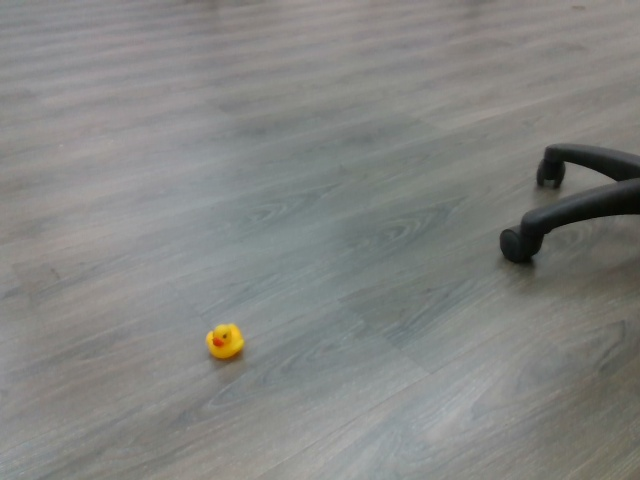duck: (203, 322, 245, 359)
